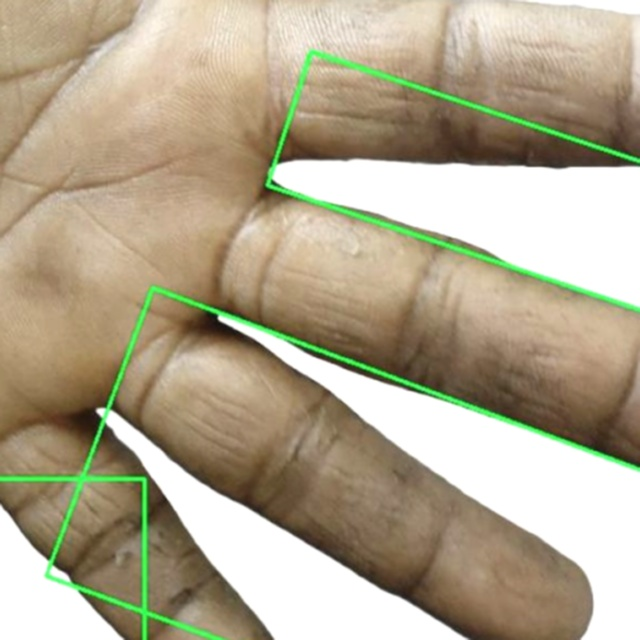Eczema: (46, 281, 639, 639), (261, 52, 639, 324), (0, 478, 144, 639)
